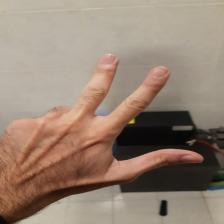three: (12, 55, 205, 187)
